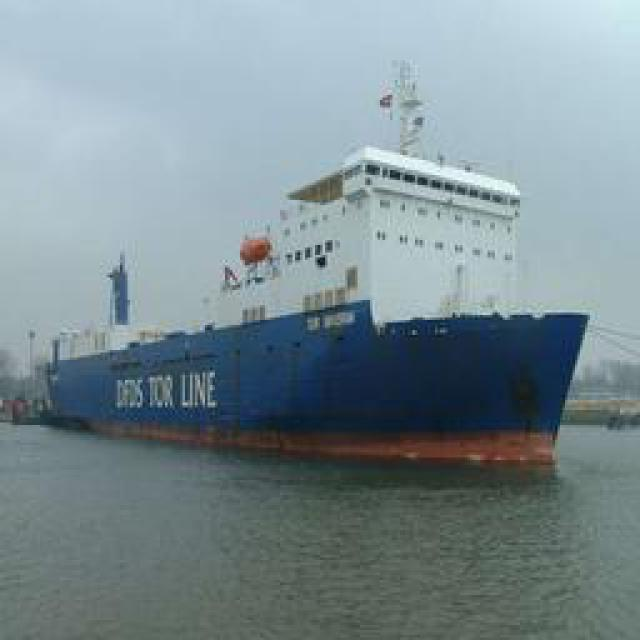Ship: (55, 45, 595, 453)
